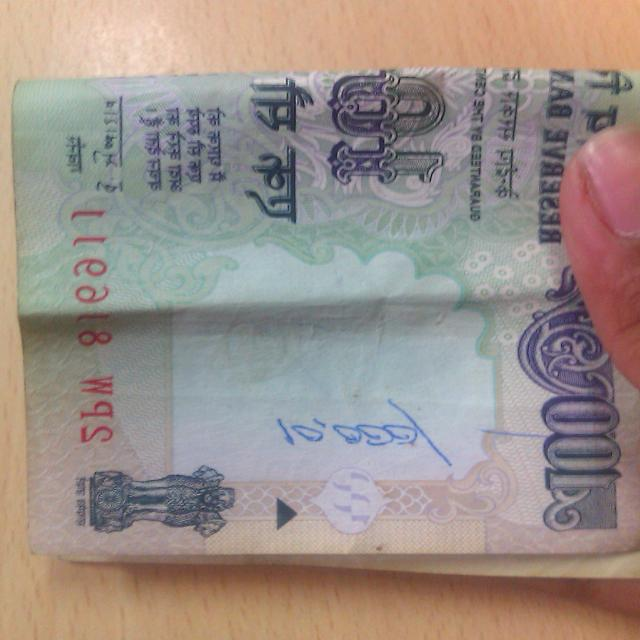100rs: (17, 62, 640, 569)
